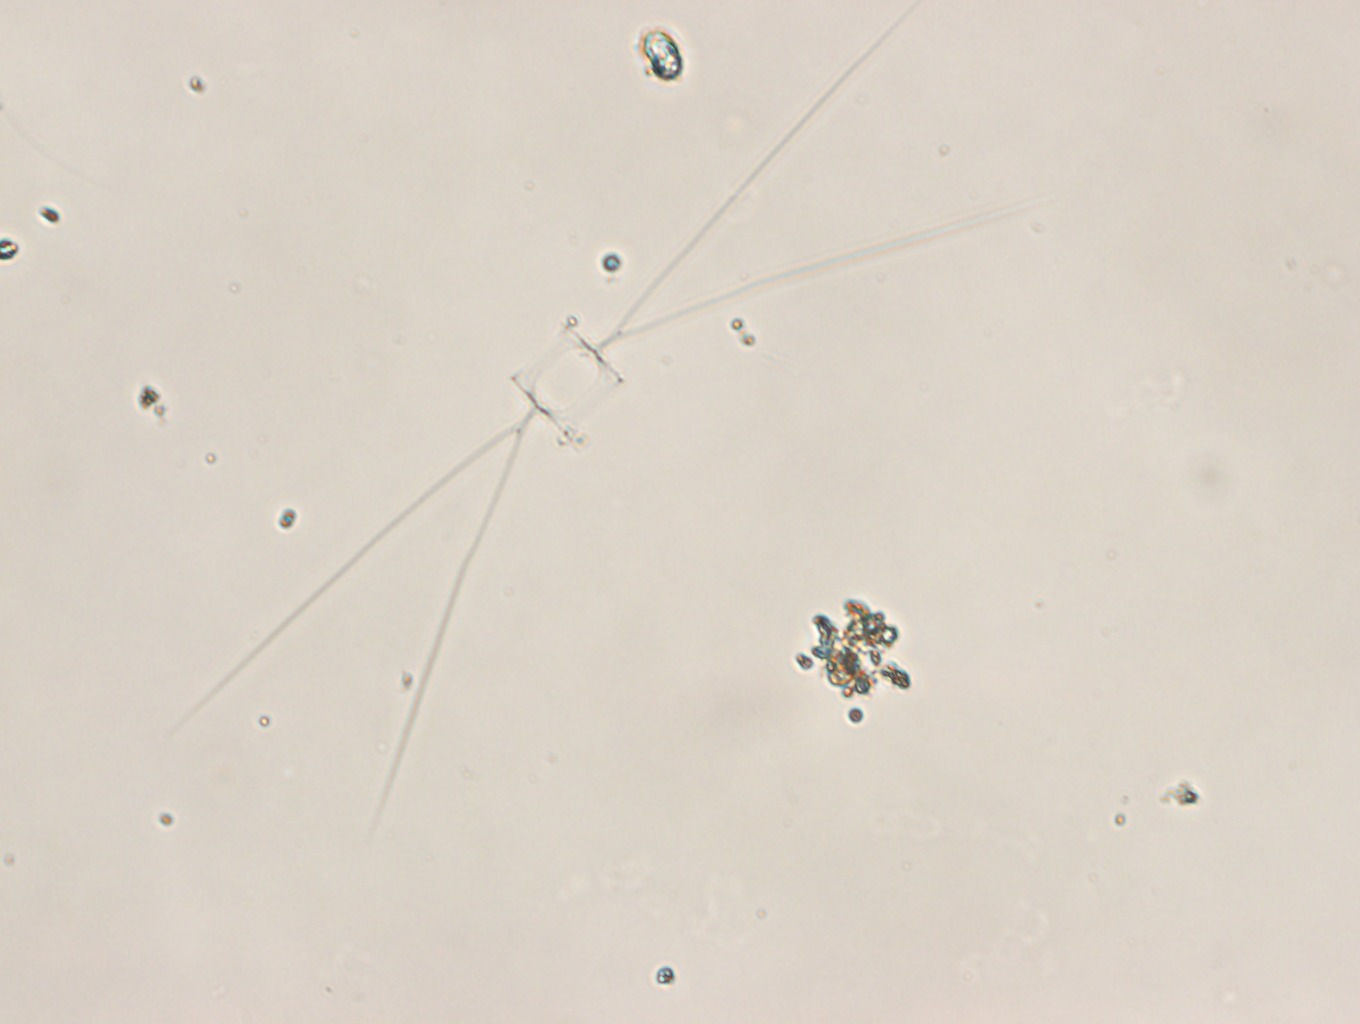chaetoceros: (174, 1, 1032, 848)
